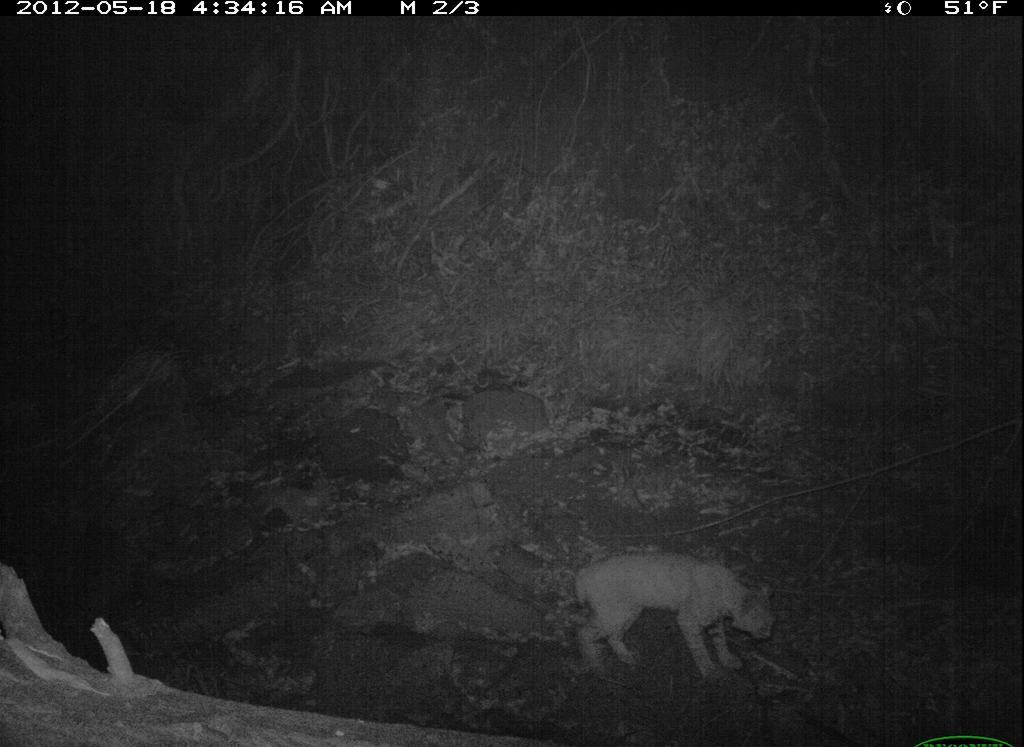bobcat: (538, 540, 807, 683)
